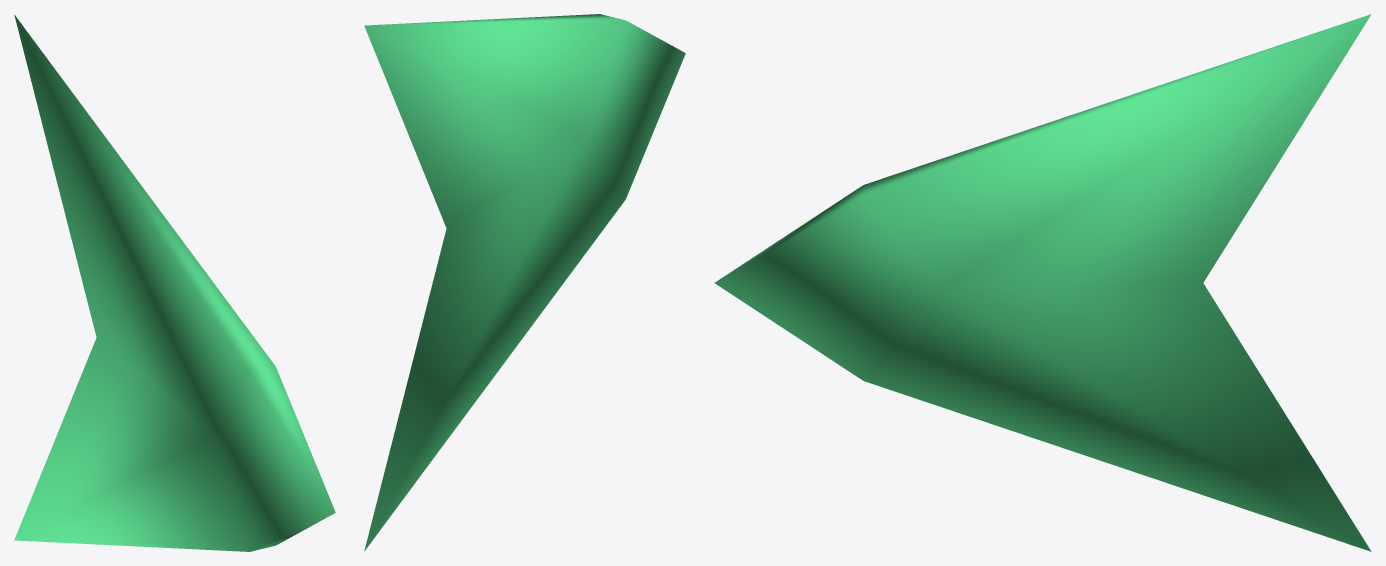
Rendered from pectoral-fin-01.obj.
The picture shows the model from 3 angles, left to right: view 1: azimuth 30°, elevation 25°; view 2: azimuth 150°, elevation 25°; view 3: azimuth 270°, elevation 25°; orthographic projection. The views are drawn at different scales.
Parts seen in each view (by area): view 1: pectoral001; view 2: pectoral001; view 3: pectoral001.
Part boxes in pixels (x1,y1,x2,y2): pectoral001: [14, 14, 335, 551]; pectoral001: [364, 14, 685, 551]; pectoral001: [714, 14, 1371, 551].
Size of the model in its own units: 0.2198 by 4.26 by 4.71.
